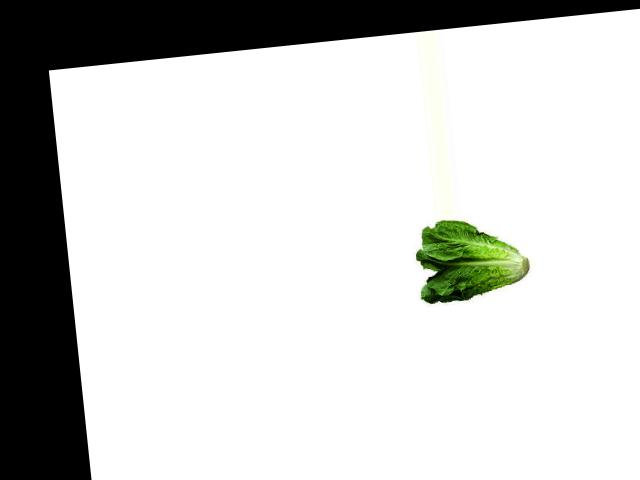lettuce: (412, 212, 535, 307)
